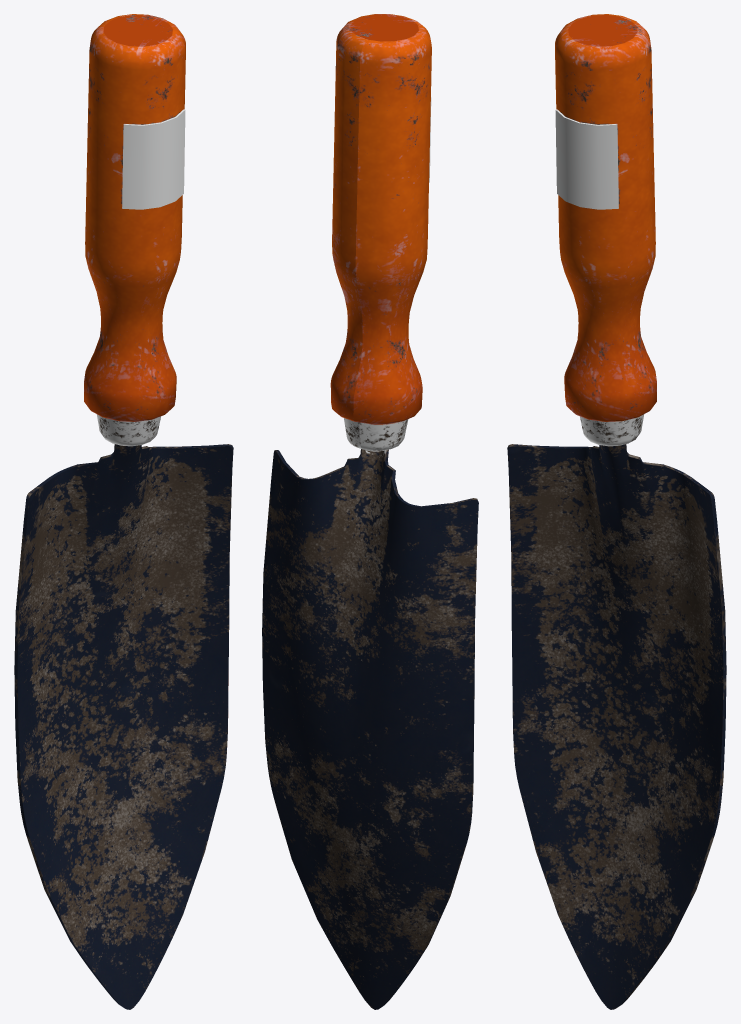
File: tools_F.fbx
The picture shows the model from 3 angles, left to right: view 1: azimuth 30°, elevation 25°; view 2: azimuth 150°, elevation 25°; view 3: azimuth 330°, elevation 25°; orthographic projection.
Parts seen in each view (by area): view 1: tool_1_shovel_low, tool_1_handler_low, tool_1_handler_plate_low, tool_1_handler_misc_low; view 2: tool_1_shovel_low, tool_1_handler_low, tool_1_handler_misc_low; view 3: tool_1_shovel_low, tool_1_handler_low, tool_1_handler_plate_low, tool_1_handler_misc_low.
Boxes of the visible parts, <box> form: tool_1_shovel_low: <box>14,444,233,1009</box>; tool_1_handler_low: <box>84,14,185,421</box>; tool_1_handler_plate_low: <box>122,109,185,209</box>; tool_1_handler_misc_low: <box>97,414,160,446</box>; tool_1_shovel_low: <box>262,449,478,1009</box>; tool_1_handler_low: <box>330,14,431,423</box>; tool_1_handler_misc_low: <box>344,418,408,451</box>; tool_1_shovel_low: <box>507,444,726,1009</box>; tool_1_handler_low: <box>555,14,656,421</box>; tool_1_handler_plate_low: <box>555,109,618,209</box>; tool_1_handler_misc_low: <box>580,414,643,446</box>.
Size of the model in its own units: 87.97 by 386 by 39.95.
1 material, 1 textured.
